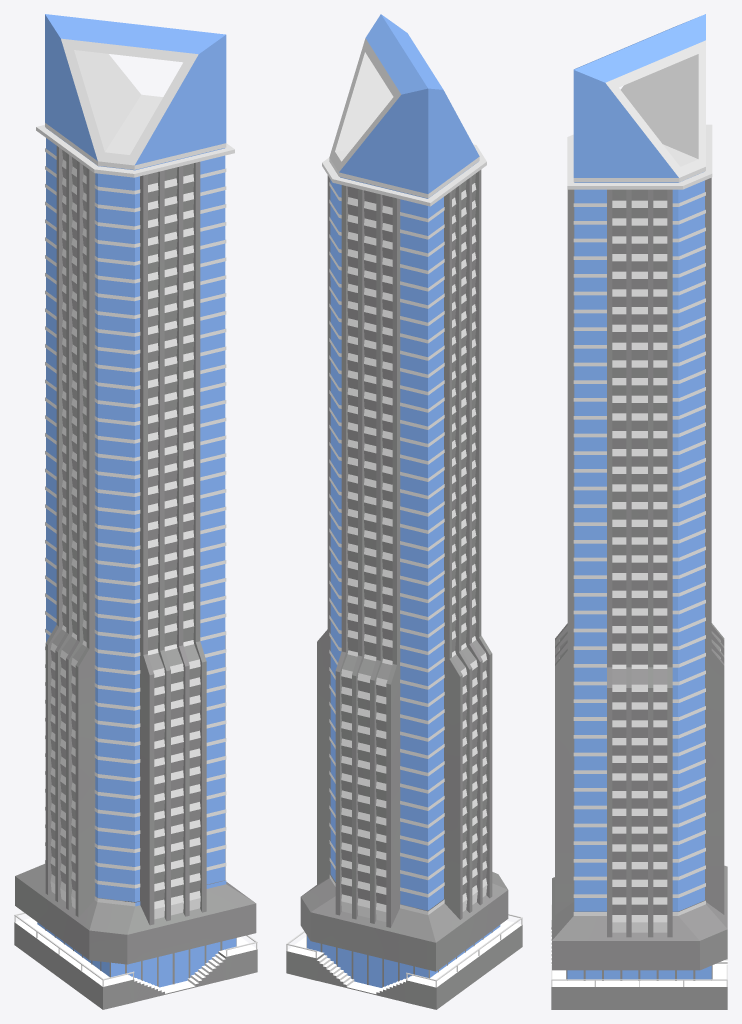
File: skyscraper.008.glb
3 renders of one model, left to right at view 1: azimuth 30°, elevation 25°; view 2: azimuth 150°, elevation 25°; view 3: azimuth 270°, elevation 25°, orthographic. The views are drawn at different scales.
Visible parts, largest first — view 1: skyscraper.008(Clone); view 2: skyscraper.008(Clone); view 3: skyscraper.008(Clone).
Part boxes in pixels (bbox=[...]): skyscraper.008(Clone): bbox=[14, 14, 257, 1009]; skyscraper.008(Clone): bbox=[286, 14, 522, 1009]; skyscraper.008(Clone): bbox=[551, 14, 727, 1009].
Size of the model in its own units: 15.39 by 88.97 by 15.29.
1 material, 1 textured.
